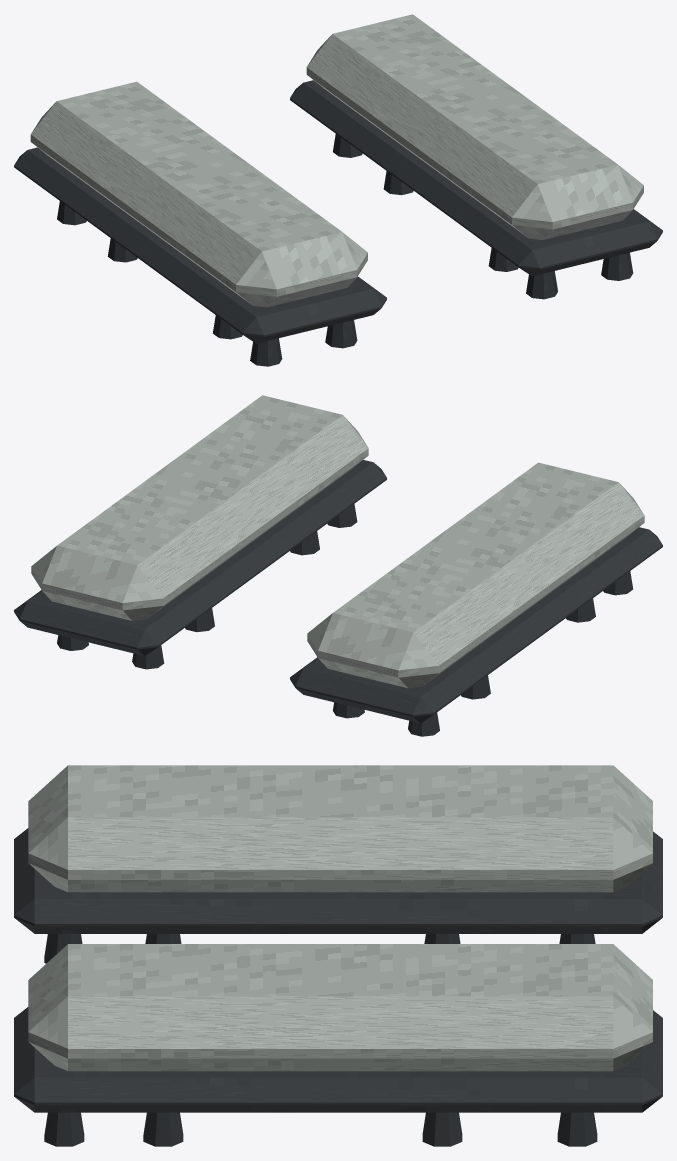
Rendered from cleats.glb.
The picture shows the model from 3 angles, top to bottom: view 1: azimuth 30°, elevation 25°; view 2: azimuth 150°, elevation 25°; view 3: azimuth 270°, elevation 25°; orthographic projection. The views are drawn at different scales.
Parts seen in each view (by area): view 1: block_shoe or boot upper (×2), block_low shaped sole (×2), block_molded cleat (×4); view 2: block_shoe or boot upper (×2), block_low shaped sole (×2), block_molded cleat (×2); view 3: block_shoe or boot upper (×2), block_low shaped sole (×2), block_molded cleat (×5).
Part boxes in pixels (box(x1,y1,x2,y2)): block_shoe or boot upper (×2): box(30, 14, 643, 307); block_low shaped sole (×2): box(14, 80, 662, 343); block_molded cleat (×4): box(250, 252, 633, 366); block_shoe or boot upper (×2): box(31, 395, 644, 688); block_low shaped sole (×2): box(14, 460, 662, 723); block_molded cleat (×2): box(132, 645, 439, 736); block_shoe or boot upper (×2): box(28, 765, 652, 1071); block_low shaped sole (×2): box(14, 828, 662, 1112); block_molded cleat (×5): box(44, 934, 597, 1146).
Size of the model in its own units: 0.3444 by 0.0847 by 0.3468.
Materials: 1 (1 with a texture image).
